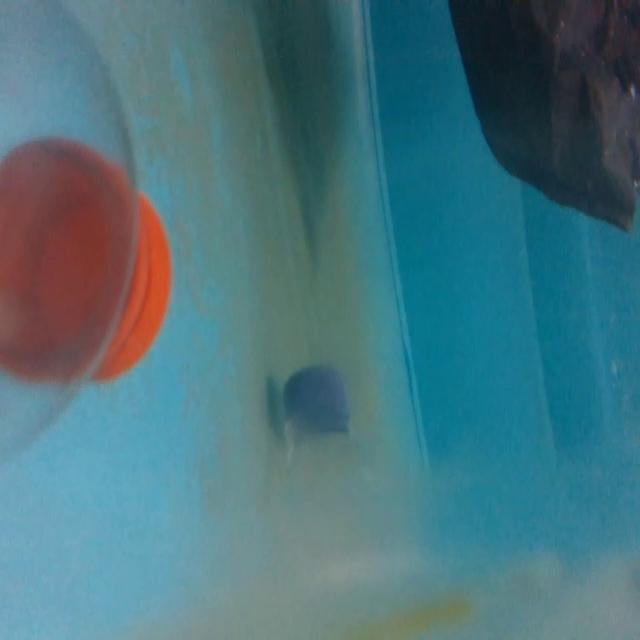plastic bags: (442, 0, 640, 239)
